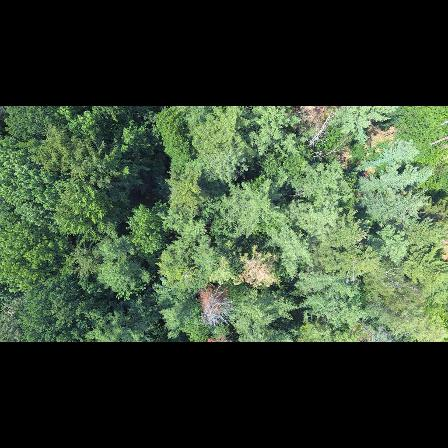Dead: (197, 282, 237, 328), (307, 107, 339, 154)
